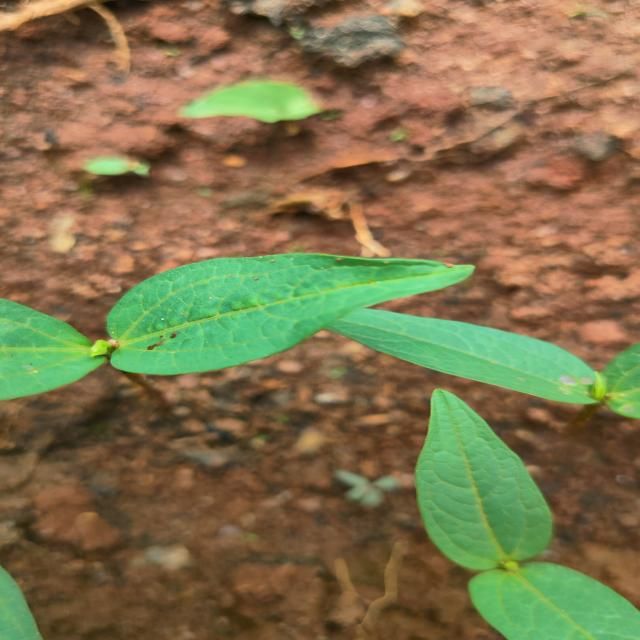Black gram_healthy: (102, 248, 471, 373), (304, 292, 603, 408), (398, 365, 553, 575), (454, 546, 640, 640)
